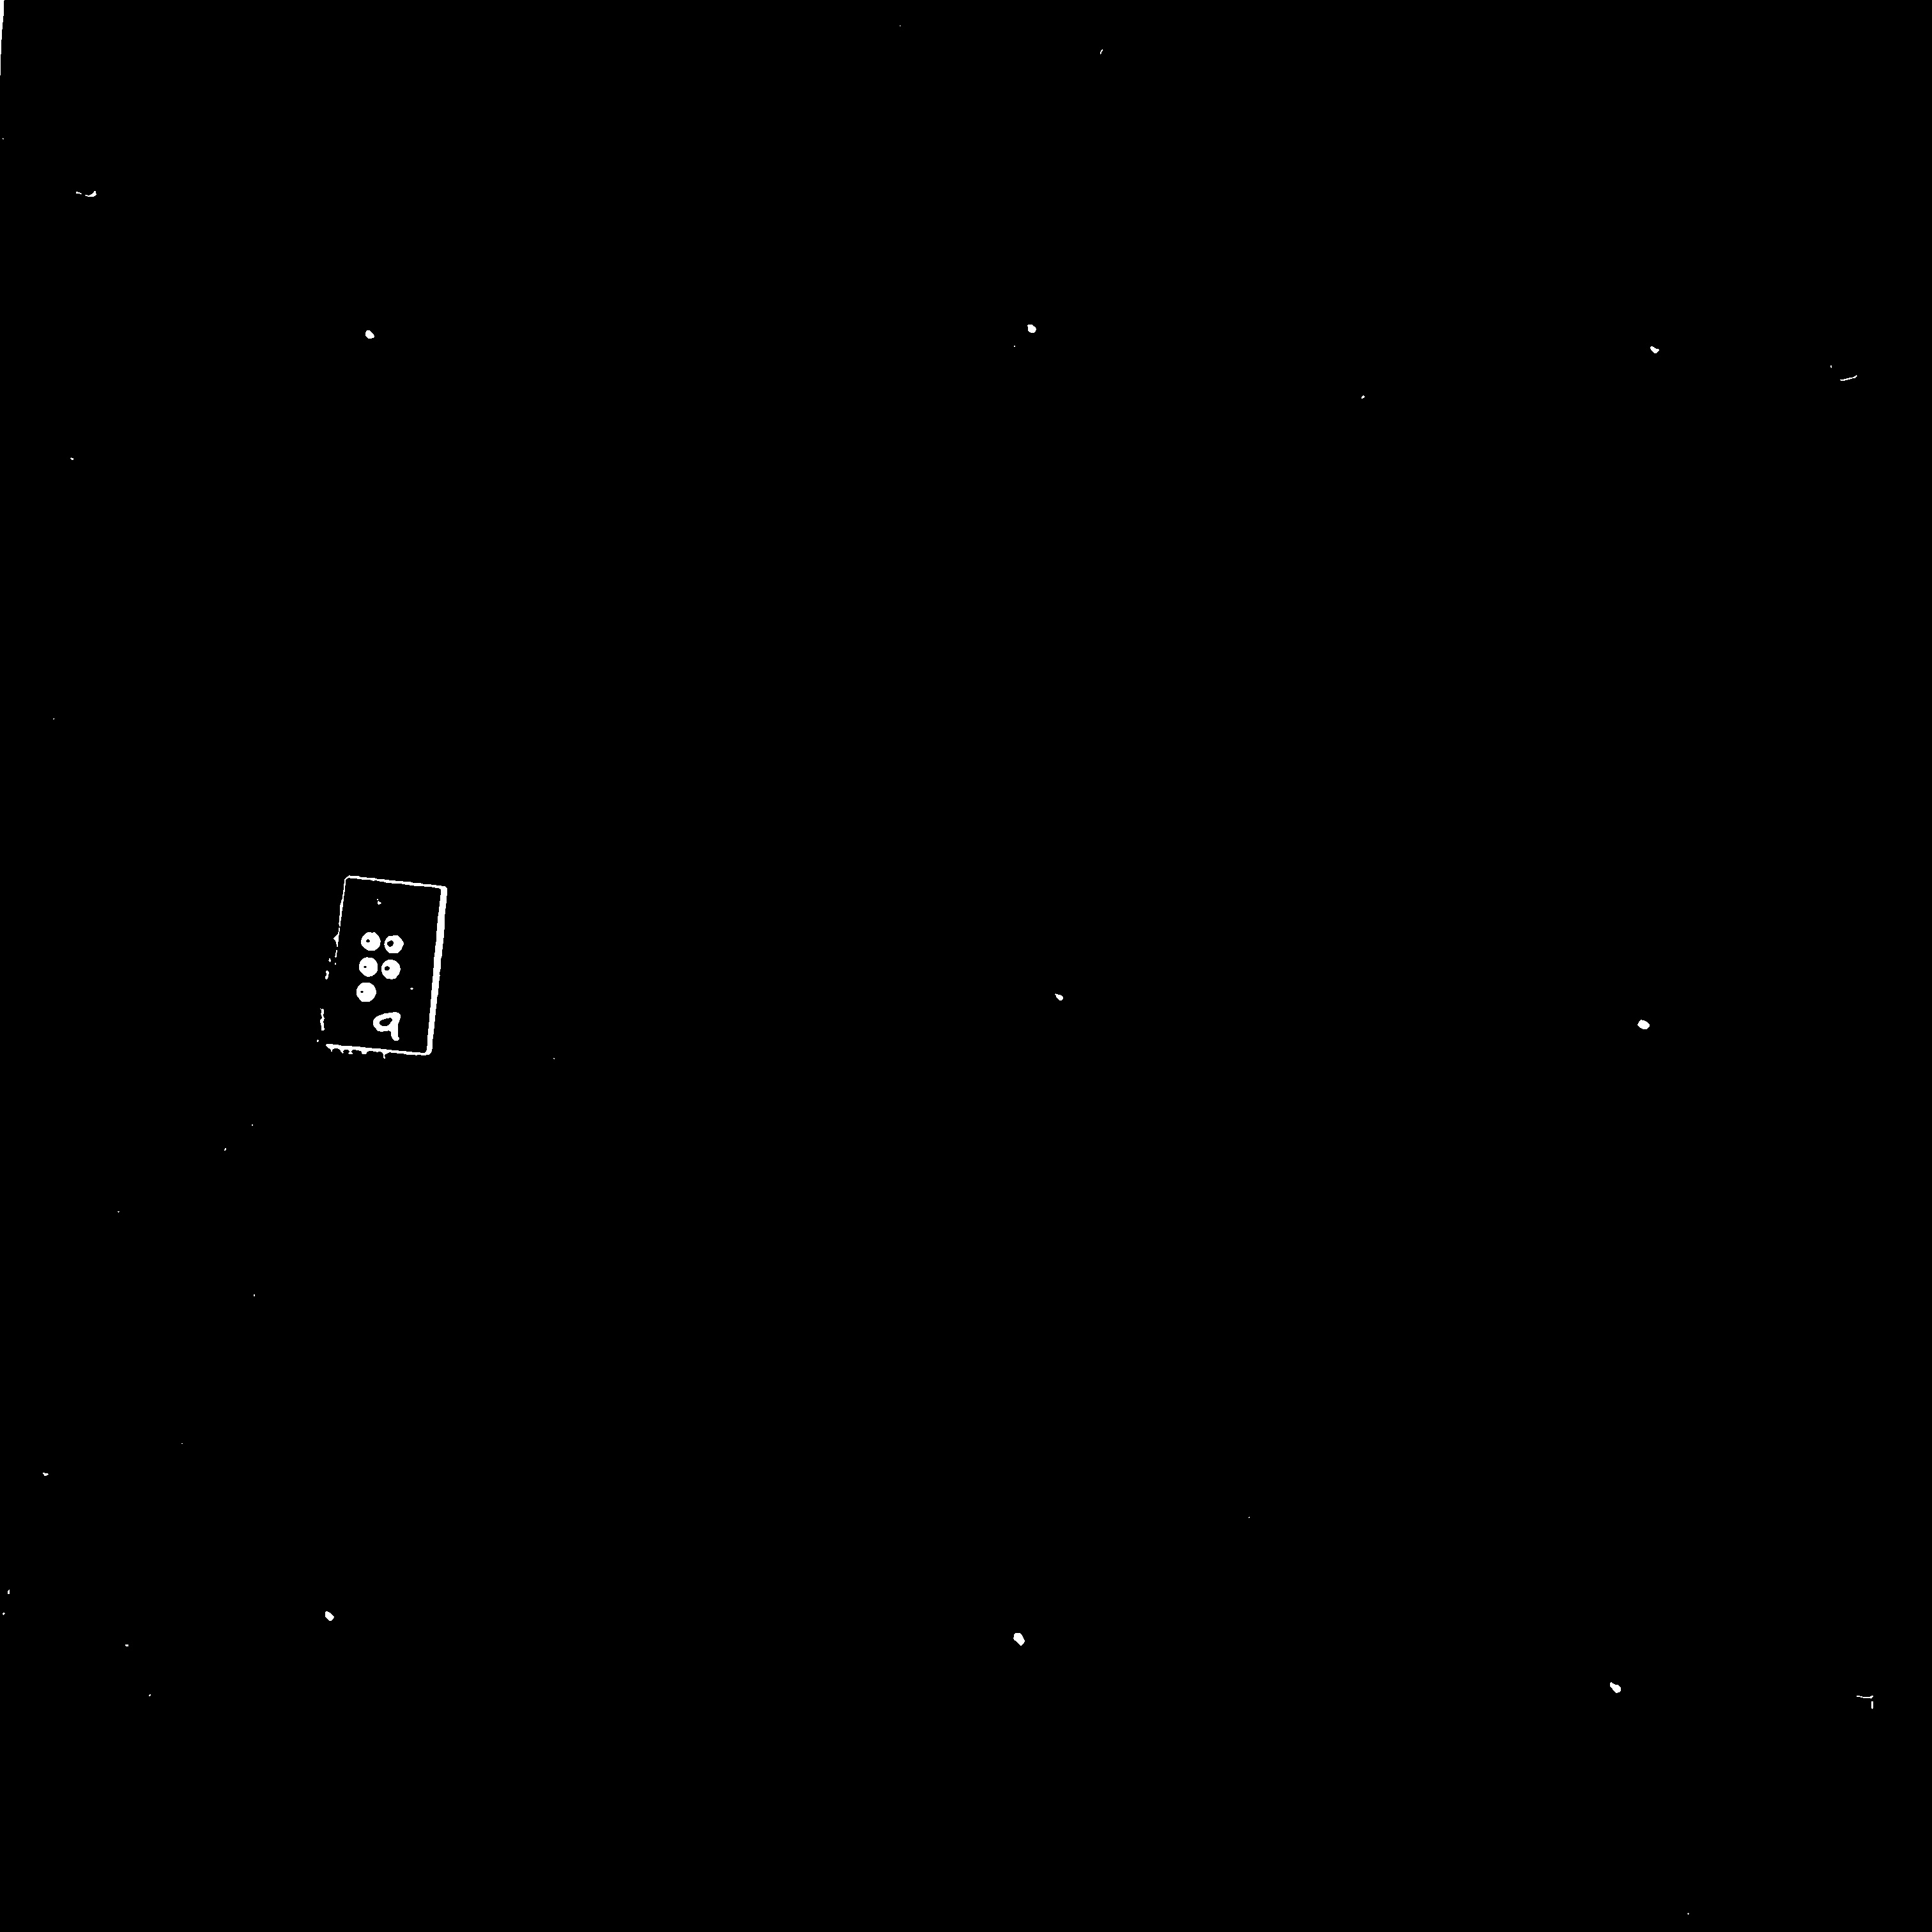q: (351, 914, 415, 1011)
